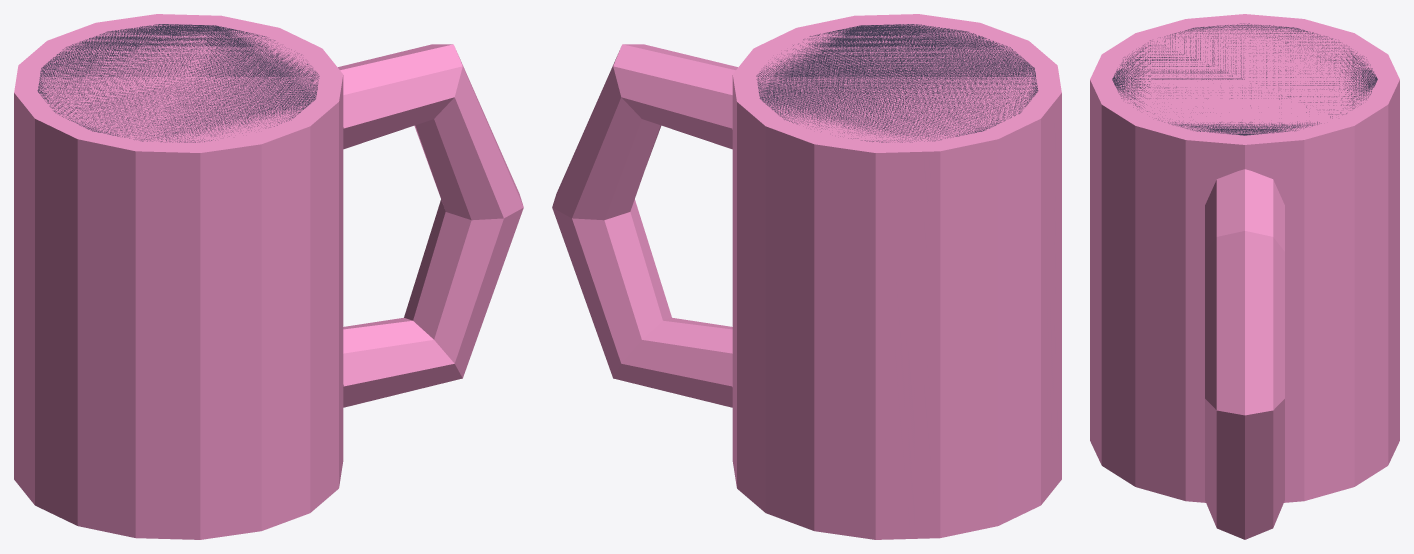
Rendered from deco_tazzacaffe_01.glb.
The picture shows the model from 3 angles, left to right: view 1: azimuth 30°, elevation 25°; view 2: azimuth 150°, elevation 25°; view 3: azimuth 270°, elevation 25°; orthographic projection. The views are drawn at different scales.
Parts seen in each view (by area): view 1: deco_tazzacaffe_01; view 2: deco_tazzacaffe_01; view 3: deco_tazzacaffe_01.
Part boxes in pixels (x1=…): deco_tazzacaffe_01: x1=14, y1=14, x2=523, y2=539; deco_tazzacaffe_01: x1=552, y1=14, x2=1061, y2=539; deco_tazzacaffe_01: x1=1090, y1=14, x2=1399, y2=539.
Bounding box in the file's own units: 0.118 × 0.09 × 0.07.
